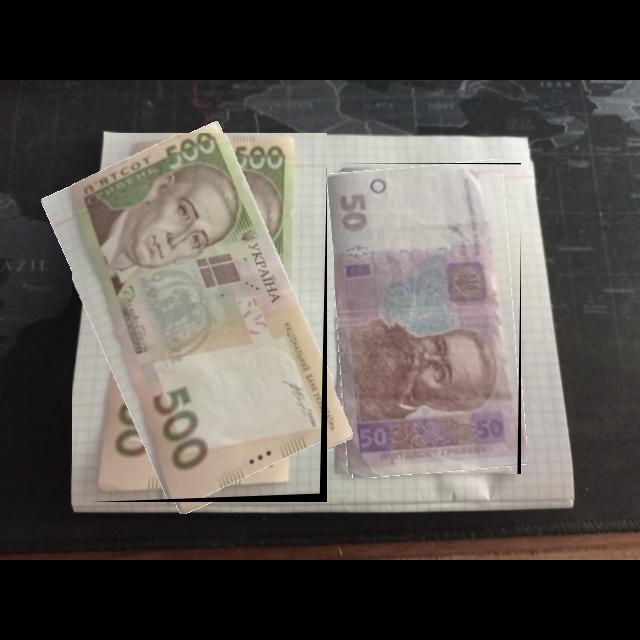500uah: (72, 133, 328, 503)
50uah: (334, 163, 522, 475)
